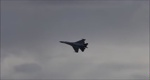maybay_muctieu: (59, 37, 88, 52)
